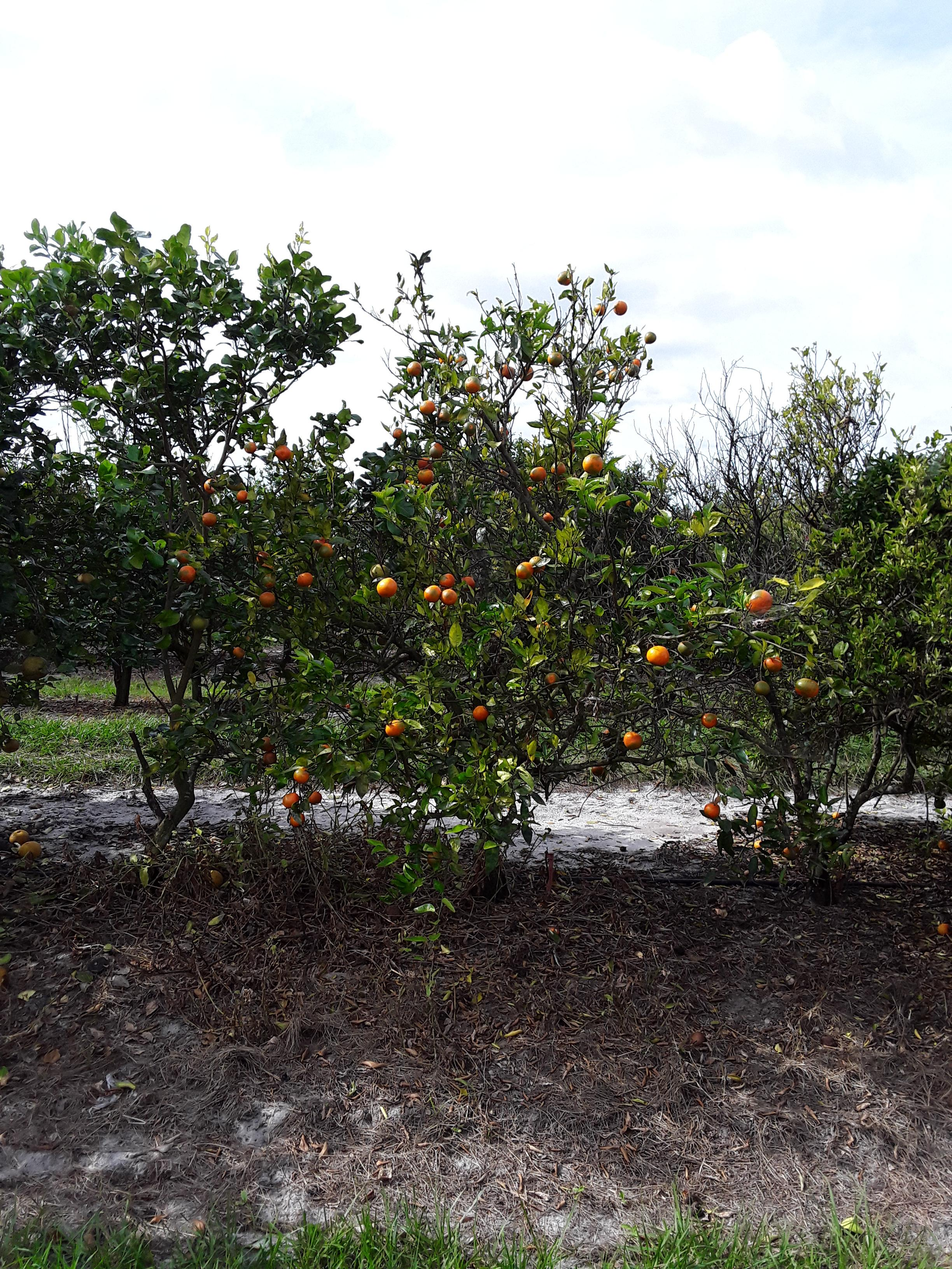fruit_on_ground: (744, 586, 776, 616), (21, 652, 51, 682), (58, 292, 84, 321), (793, 675, 822, 700), (644, 643, 671, 668), (373, 575, 399, 599), (382, 716, 408, 739), (620, 728, 645, 751), (581, 452, 606, 475), (530, 617, 556, 638), (14, 626, 38, 648), (74, 566, 98, 587), (761, 652, 784, 673), (553, 266, 576, 287), (700, 800, 723, 821), (187, 612, 209, 633), (177, 563, 199, 584), (273, 442, 295, 463), (367, 561, 390, 581), (252, 548, 275, 568), (688, 600, 711, 620), (527, 553, 548, 574), (1, 735, 23, 755), (698, 710, 720, 730), (681, 613, 704, 632), (280, 790, 301, 810), (513, 560, 534, 580), (470, 703, 491, 723), (0, 675, 12, 709), (542, 668, 562, 688), (200, 476, 220, 496), (404, 358, 424, 378), (295, 570, 315, 590), (424, 848, 445, 867), (286, 810, 307, 829), (751, 678, 772, 697), (544, 348, 565, 367), (173, 546, 195, 564), (675, 638, 695, 657), (292, 765, 312, 784), (421, 584, 441, 603), (527, 464, 548, 482), (439, 586, 458, 605), (417, 397, 436, 416), (434, 515, 453, 534), (316, 739, 336, 757), (225, 473, 245, 491), (415, 467, 435, 485), (461, 376, 481, 394), (199, 510, 219, 528), (310, 534, 330, 552), (460, 572, 479, 590), (612, 297, 630, 316), (258, 590, 277, 608), (294, 487, 314, 504), (229, 644, 249, 661), (518, 363, 536, 381), (498, 361, 516, 379), (439, 570, 457, 588), (241, 437, 259, 455), (588, 762, 607, 779), (388, 423, 406, 440), (550, 460, 568, 477), (261, 750, 279, 767), (233, 487, 251, 504), (428, 440, 445, 458), (317, 542, 334, 560), (259, 735, 276, 752), (306, 788, 323, 805), (435, 407, 452, 423), (607, 367, 623, 384), (623, 360, 639, 377), (259, 573, 276, 589), (462, 420, 478, 437), (642, 329, 658, 346), (433, 351, 451, 366), (450, 351, 468, 366), (542, 704, 558, 720), (495, 423, 511, 439), (591, 301, 607, 317), (415, 454, 433, 468), (540, 509, 556, 524), (628, 356, 644, 371), (495, 467, 510, 482), (604, 341, 619, 355), (593, 368, 607, 382), (933, 797, 947, 811), (524, 484, 538, 497)
fruit_on_tree: (202, 865, 226, 890), (17, 838, 42, 862), (686, 1027, 707, 1049), (7, 827, 30, 846), (779, 842, 799, 860), (934, 919, 951, 937), (935, 837, 950, 853), (750, 837, 766, 852), (752, 815, 767, 829), (830, 809, 841, 820)
